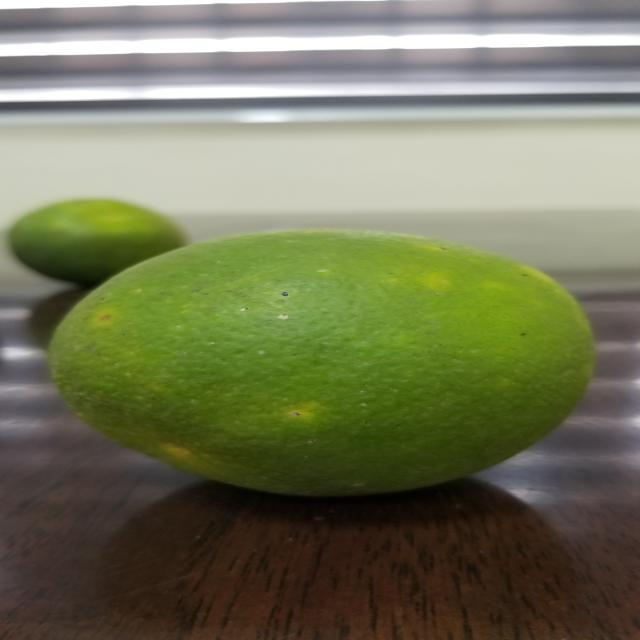Ripe orange: (49, 232, 640, 509)
